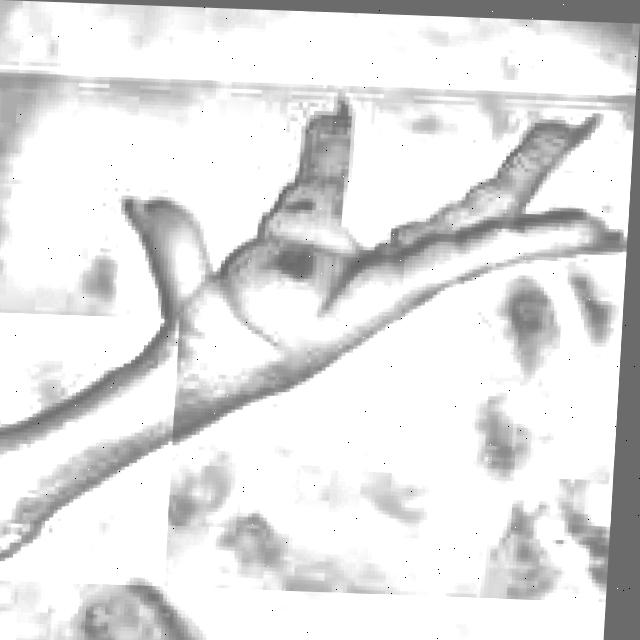Bumble foot: (0, 76, 636, 590)
